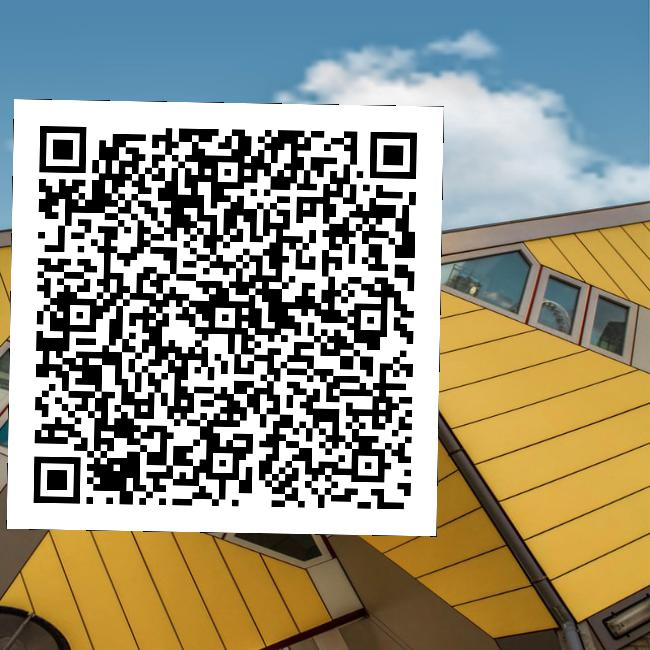qr_code: (6, 99, 443, 536)
